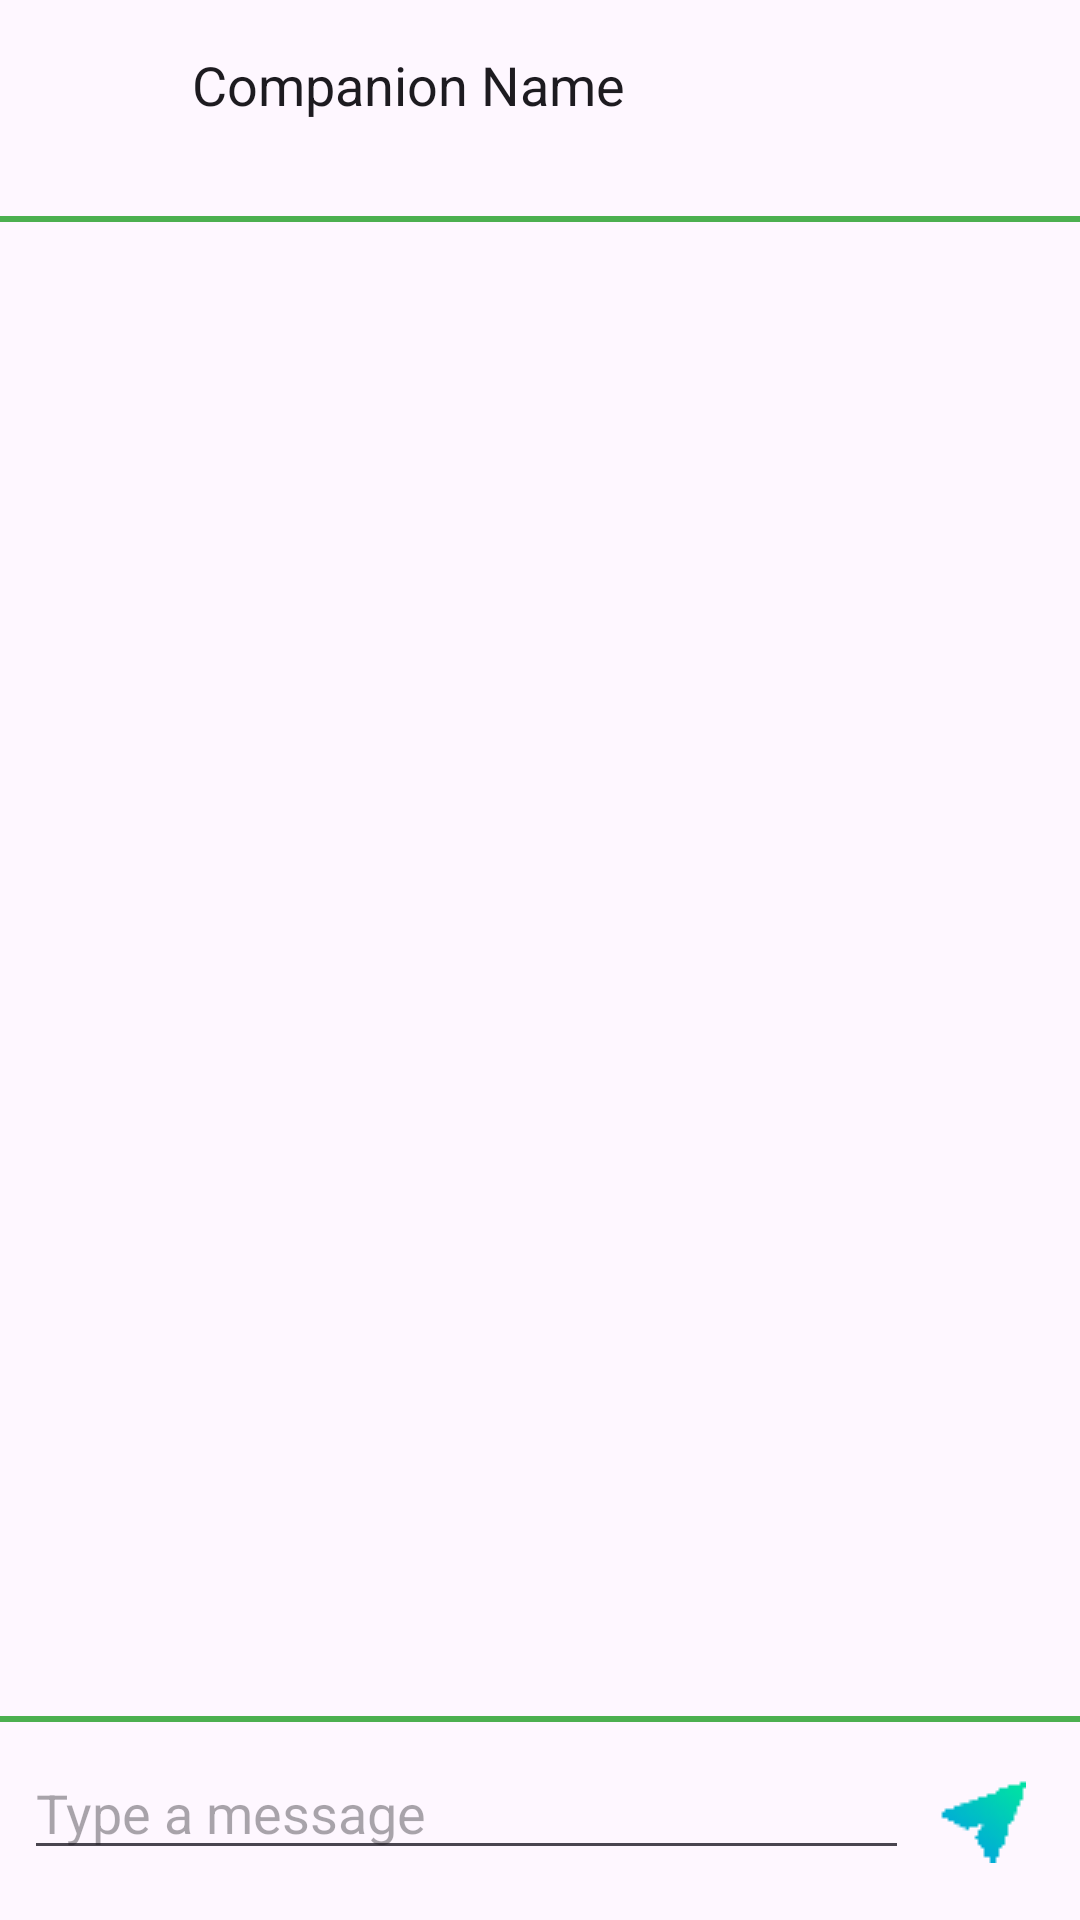

Named icons in this screenshot (1080 × 1920) and their centers, (x=x, y=y):
Send Message: (x=983, y=1822)
